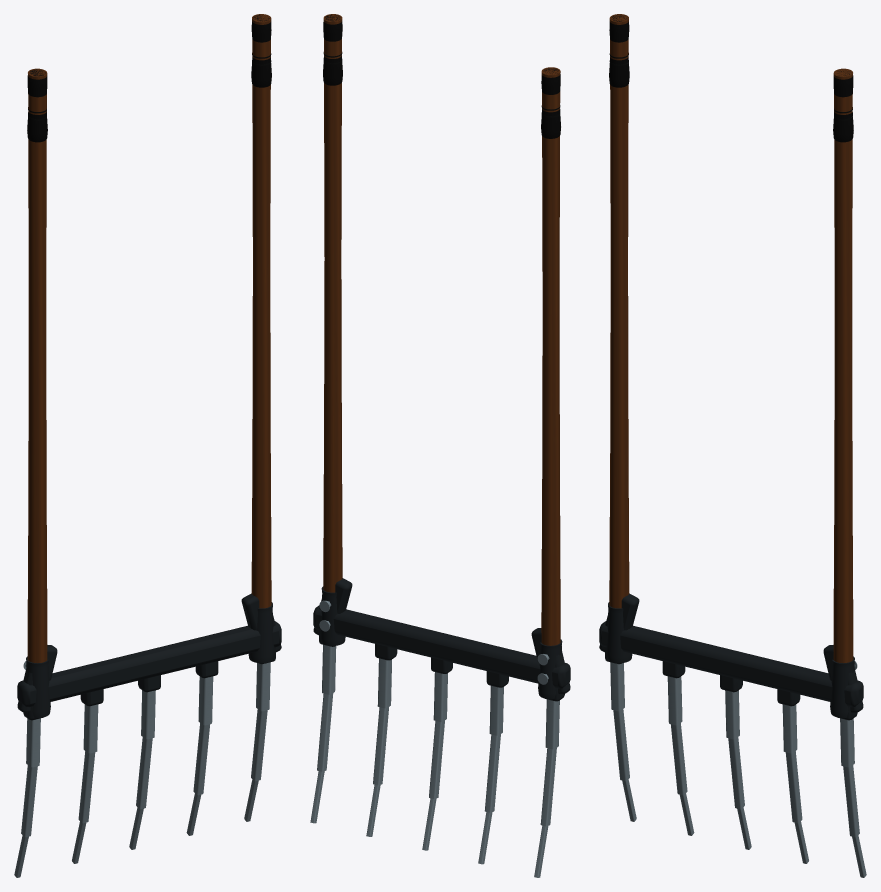
File: Broadfork.gltf
3 views of the same model, side by side, from view 1: azimuth 30°, elevation 25°; view 2: azimuth 150°, elevation 25°; view 3: azimuth 330°, elevation 25° (orthographic). The views are drawn at different scales.
Parts seen in each view (by area): view 1: Broadfork__Body; view 2: Broadfork__Body; view 3: Broadfork__Body.
Boxes of the visible parts, bbox=[...] form: Broadfork__Body: bbox=[14, 14, 281, 877]; Broadfork__Body: bbox=[310, 14, 570, 877]; Broadfork__Body: bbox=[599, 14, 866, 877].
Bounding box in the file's own units: 0.504 × 1.51 × 0.0853.
Materials: 1 (1 with a texture image).
